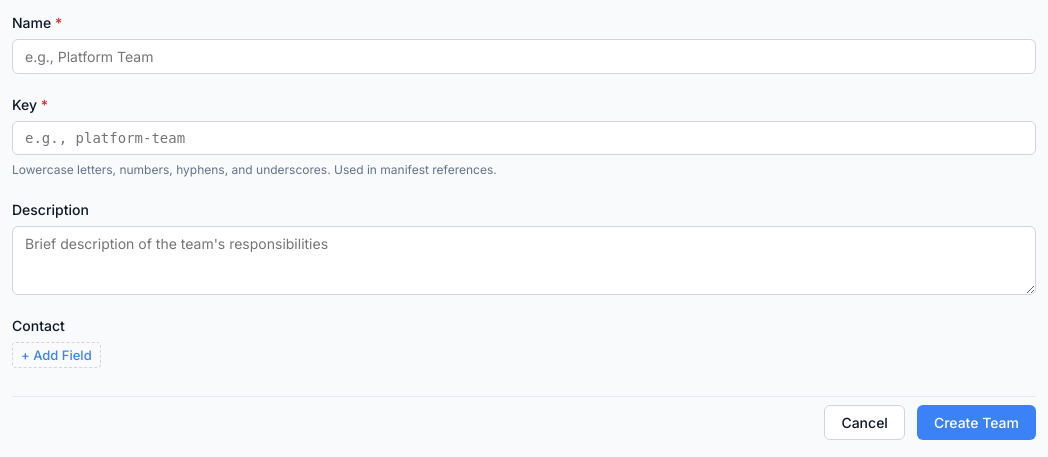
TeamForm › validates empty key
In the field labelled "Name *": [524, 56] box [12,39,1036,74], type "Test"
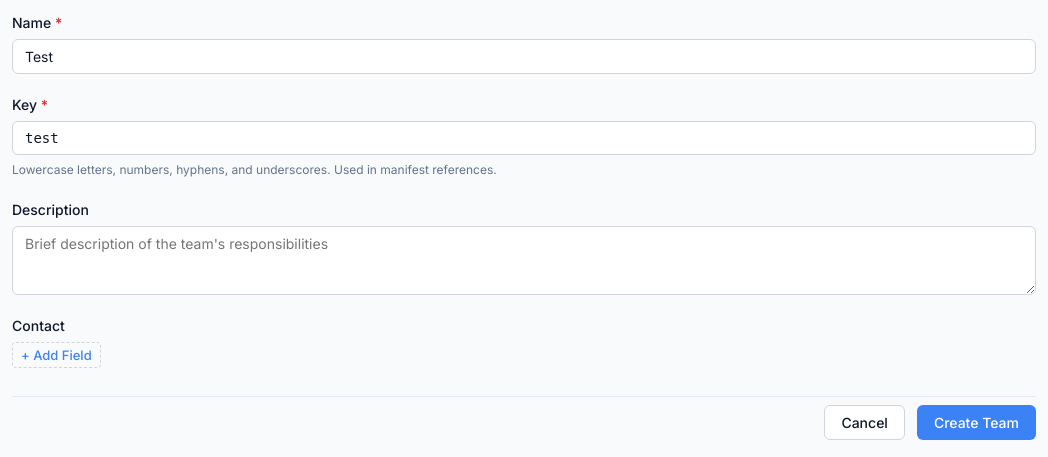
# Manually clear the key
Clear the field labelled "Key *": [524, 138] box [12,121,1036,155]
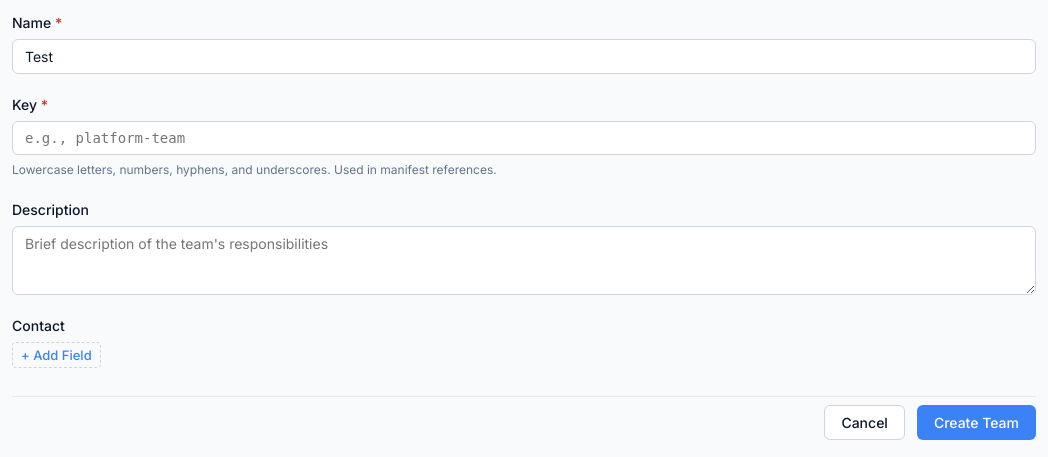
Click the button "Create Team": [976, 422] box [917,405,1036,440]
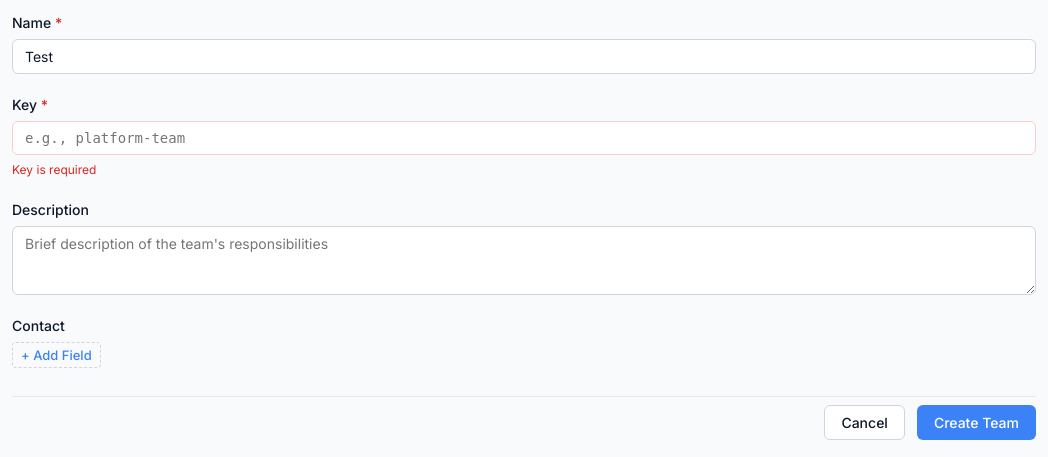
Expected: the text "Key is required" is shown, [12,162,96,177]
